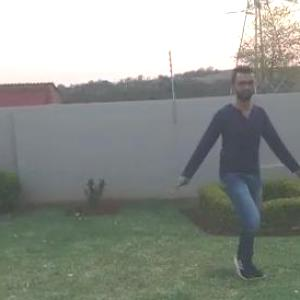land: (170, 60, 298, 275)
